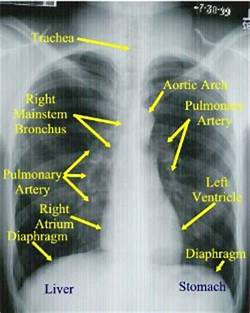telestration: (12, 92, 67, 137), (2, 167, 63, 196), (183, 99, 244, 128), (73, 111, 118, 148), (165, 119, 190, 175), (192, 177, 244, 202), (63, 150, 89, 200), (181, 200, 217, 228), (36, 203, 73, 229), (75, 33, 128, 51), (163, 78, 228, 92), (184, 248, 247, 261), (31, 29, 75, 45), (179, 279, 232, 292), (5, 229, 67, 240), (69, 214, 103, 230), (30, 238, 53, 260), (148, 89, 164, 114), (46, 282, 75, 294)
